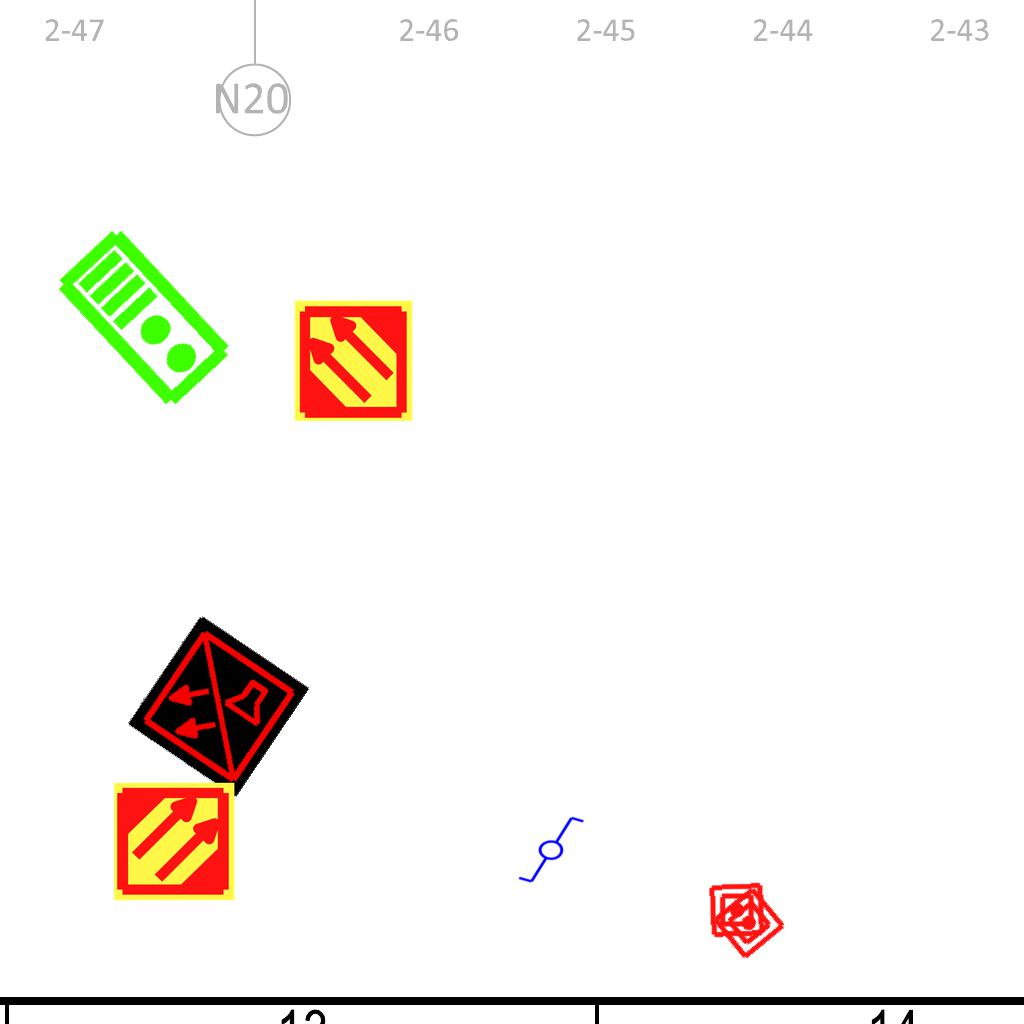ASR_Ansaugrauchmelder: (112, 779, 237, 904), (291, 298, 416, 423)
Gegensprechanlage_mit_Video: (50, 220, 241, 414)
NAM-Nichtautomatischer_Melder: (709, 883, 789, 963), (708, 881, 766, 939)
OKW_Multisensormelder_(Kombination_optischer_Rauch-Kahlenmonoxid_Waerme-Melder): (126, 614, 310, 798)
Wechselschalter: (508, 813, 586, 885)
